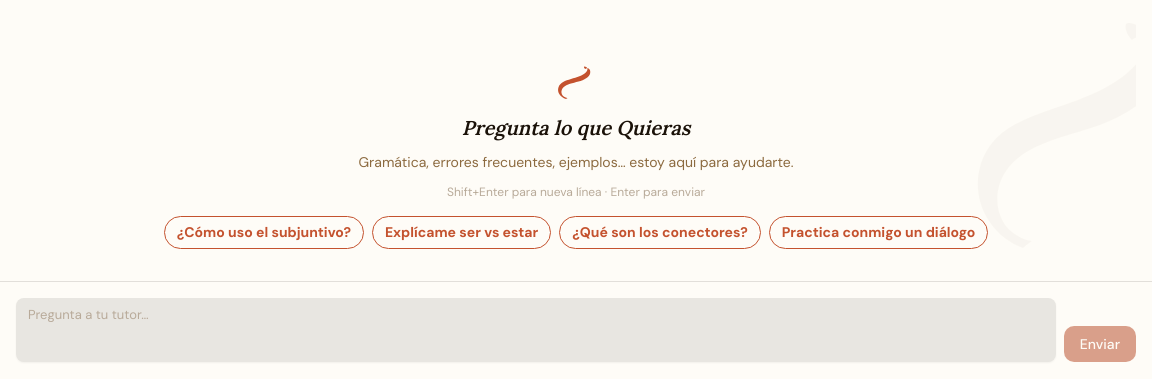
Test: TutorChat › streaming › shows generic error on non-network fetch failure
Type "Test" into the text box with placeholder "Pregunta a tu tutor…".
click(536, 330); type("Test")  # box [16,298,1056,362]
Then press Enter
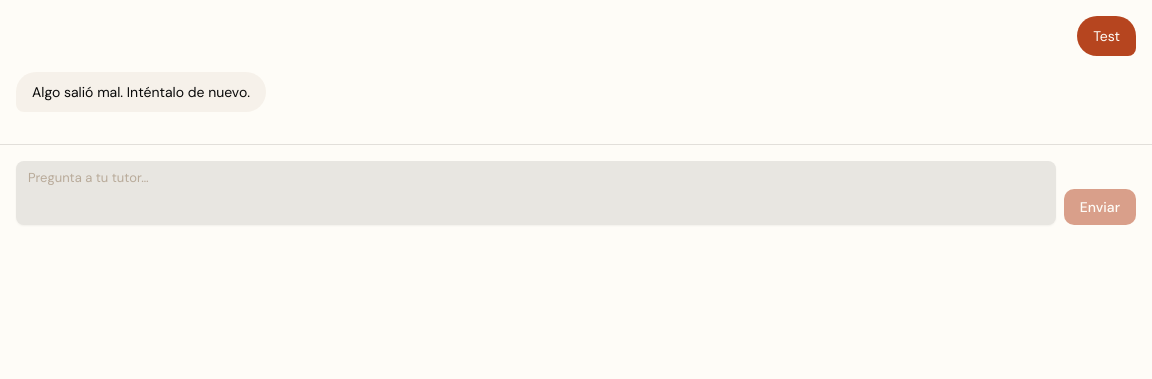
Expected: the text "Algo salió mal. Inténtalo de nuevo." is shown, [16,72,266,112]
